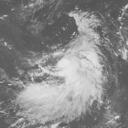cyclone: (19, 34, 109, 119)
